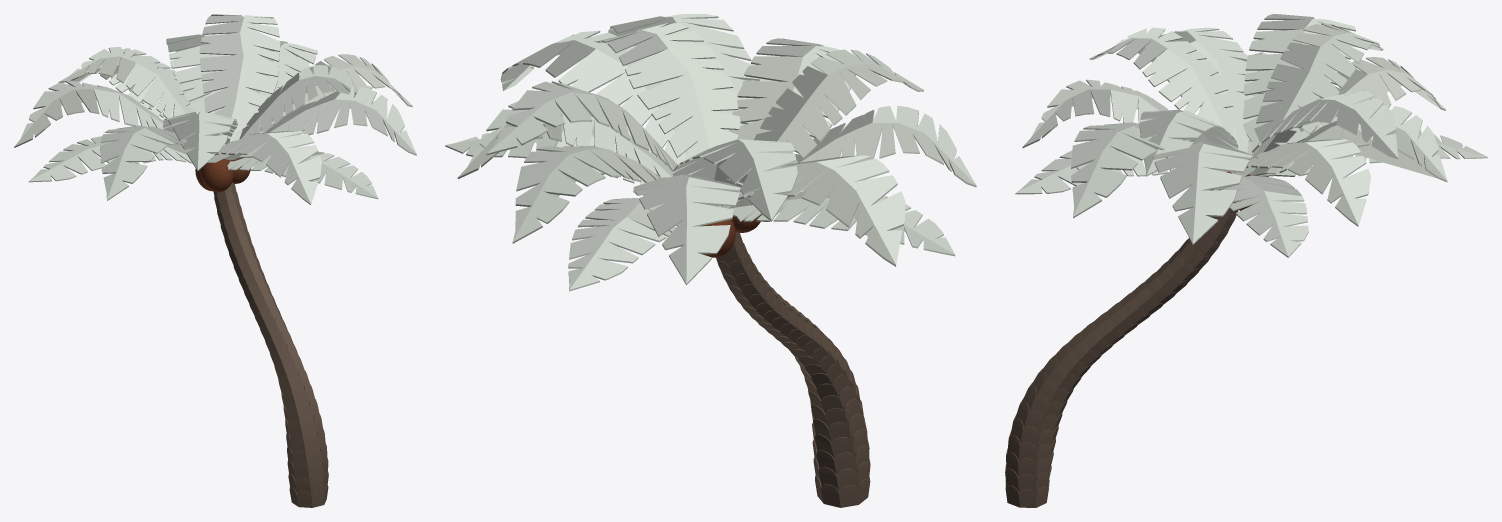
Rendered from low poly palm tree.fbx.
3 views of the same model, side by side, from view 1: azimuth 30°, elevation 25°; view 2: azimuth 150°, elevation 25°; view 3: azimuth 270°, elevation 25° (orthographic). The views are drawn at different scales.
Visible parts, largest first — view 1: leaves, tronc, noix de coco; view 2: leaves, tronc; view 3: leaves, tronc.
Boxes of the visible parts, bbox=[...] form: leaves: bbox=[14, 14, 416, 204]; tronc: bbox=[213, 182, 328, 507]; noix de coco: bbox=[200, 158, 233, 191]; leaves: bbox=[445, 14, 976, 291]; tronc: bbox=[716, 232, 870, 507]; leaves: bbox=[1015, 14, 1487, 257]; tronc: bbox=[1005, 209, 1238, 507].
Bounding box in the file's own units: 1570 × 1563 × 1564.
